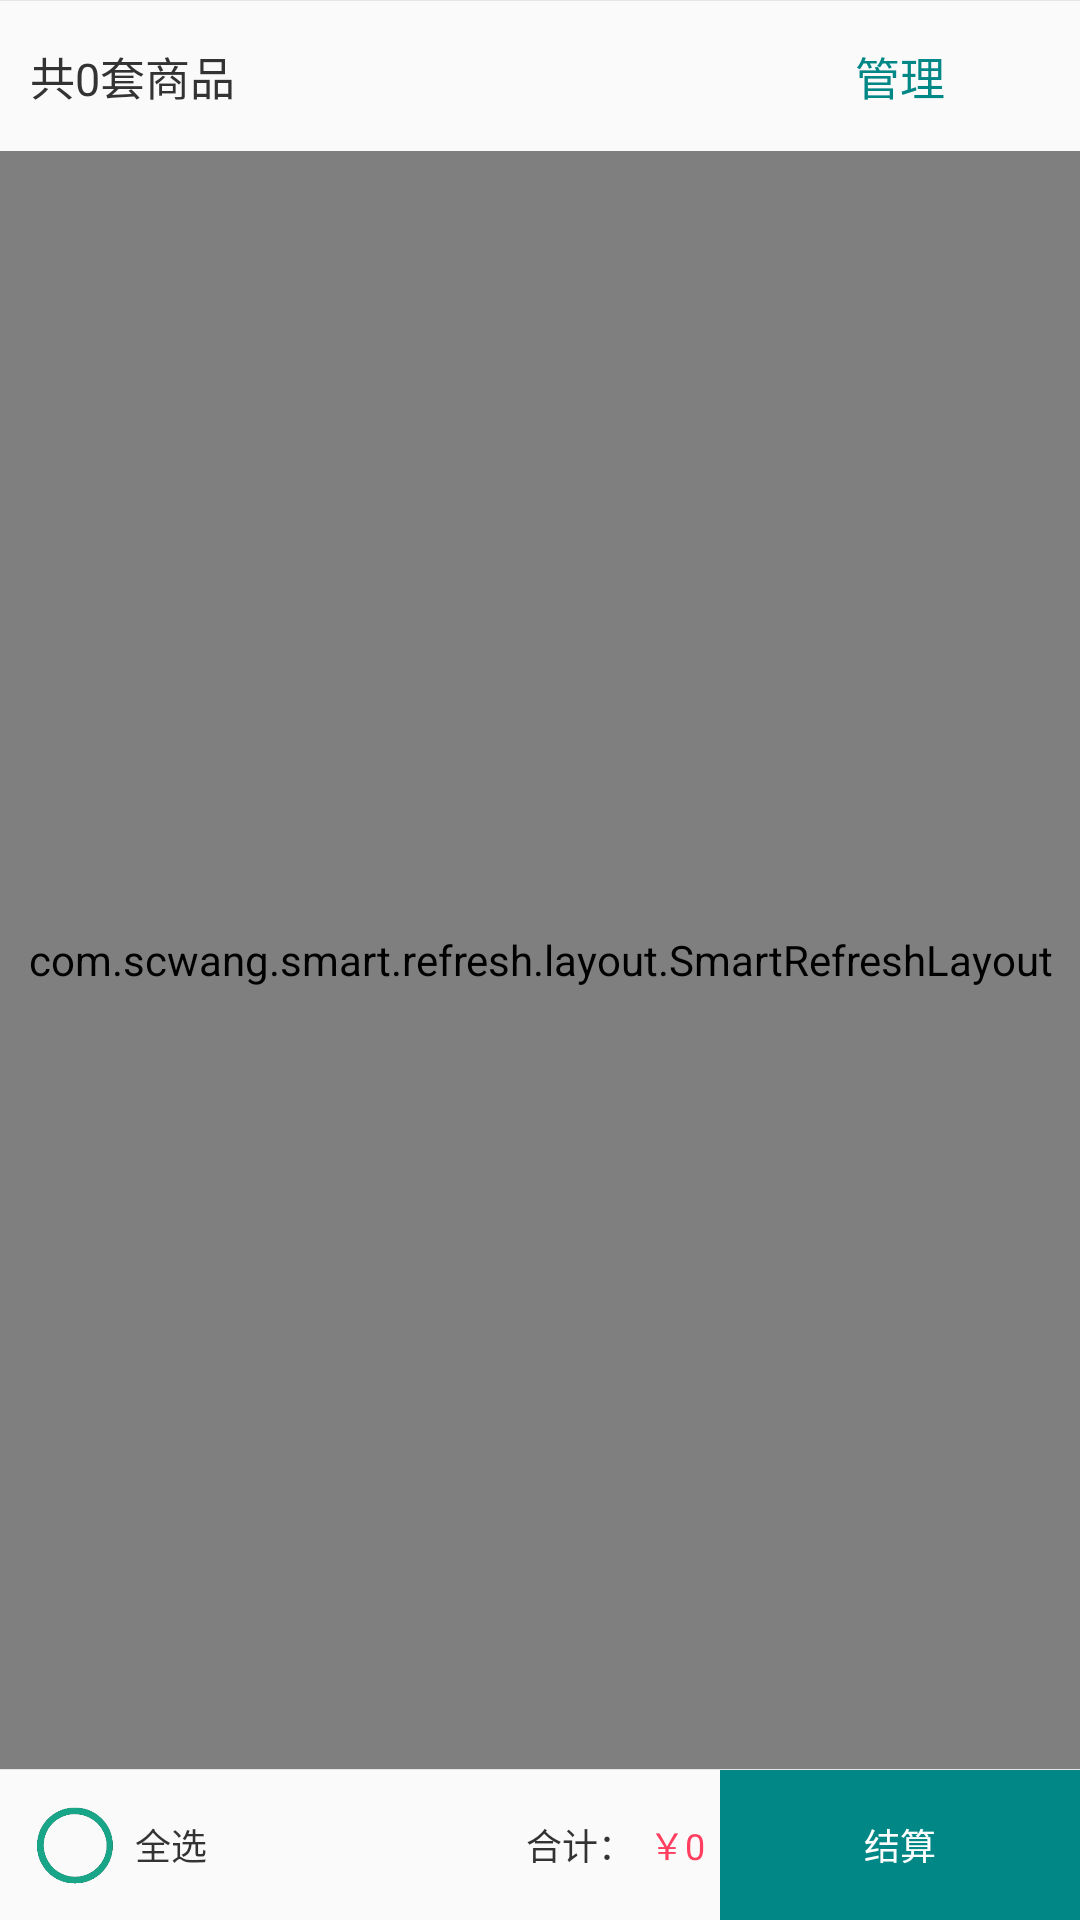

Icons on this 1080×1920 Android screen, each with its box as (x1, y1, x2, y2):
confirm empty: (37, 1807, 113, 1884)
